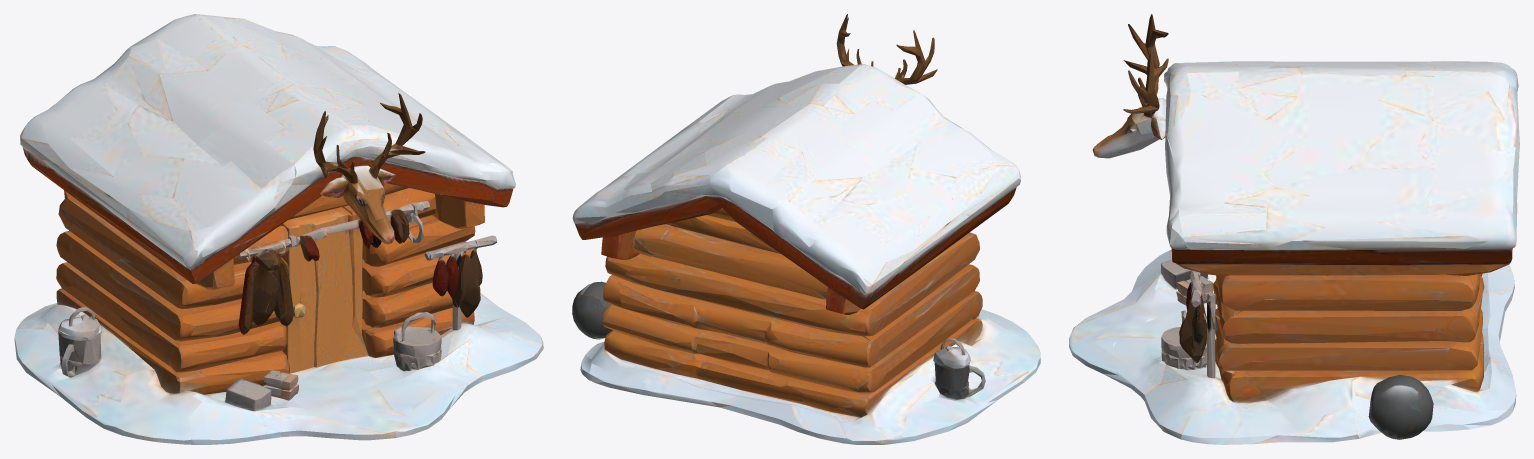
Rendered from hunter_lodge.glb.
The picture shows the model from 3 angles, left to right: view 1: azimuth 30°, elevation 25°; view 2: azimuth 150°, elevation 25°; view 3: azimuth 270°, elevation 25°; orthographic projection. The views are drawn at different scales.
Bounding box in the file's own units: 1.89 × 1.28 × 1.68.
Materials: 1 (1 with a texture image).
